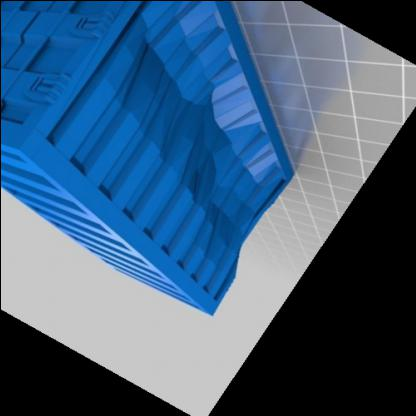Damage: (134, 7, 243, 254)
